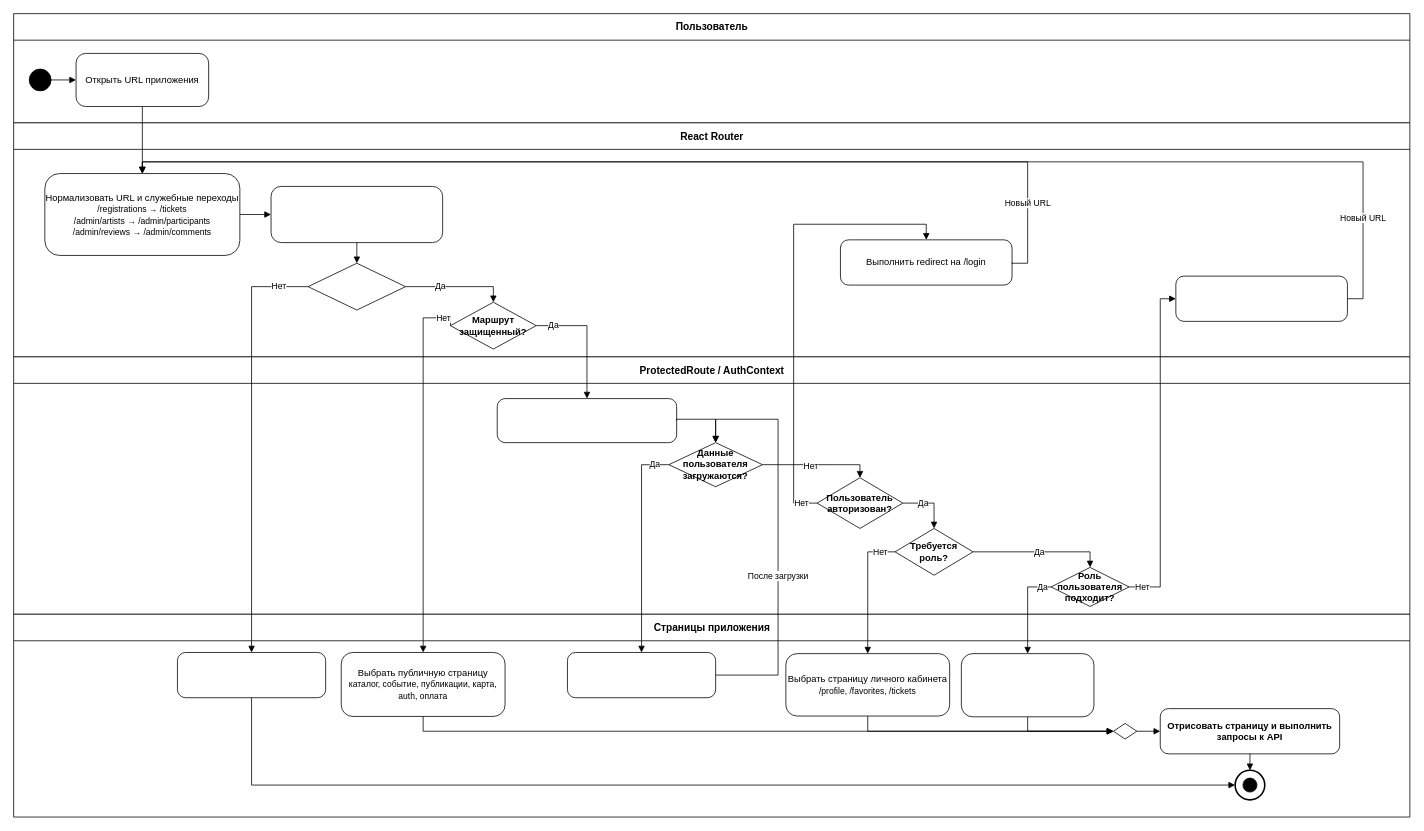
Some shapes in this 1424 by 831 pixel diagram are drawn without their labels. The shapes that lost their labels are listed below. From the top down, each one's centre as x and y in pixels, then its label:
At (356,214): "Сопоставить URL с таблицей маршрутов Routes в App.tsx".
At (356,286): "Маршрут существует?".
At (1261,298): "Выполнить redirect на /".
At (586,420): "Получить состояние авторизации user, loading, isAuthenticated".
At (251,675): "Отобразить NotFound".
At (641,675): "Показать экран загрузки".
At (1027,685): "Выбрать ролевую зону /organizer/* или /admin/*".
